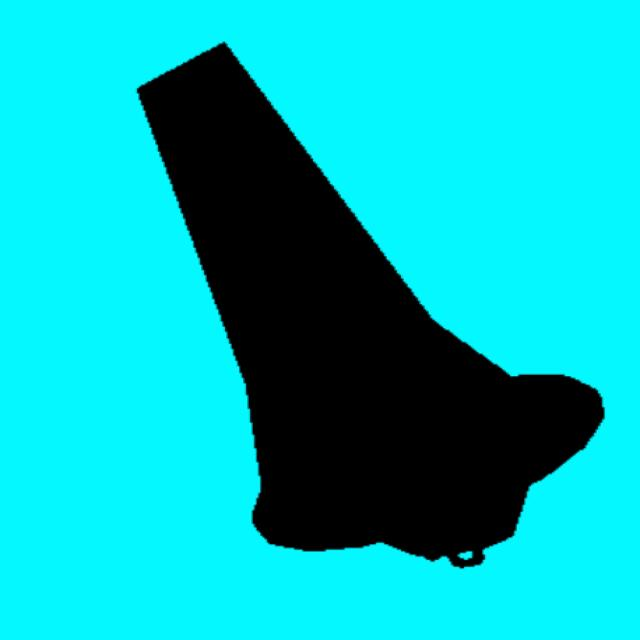BlackBuoy: (139, 44, 604, 566)
